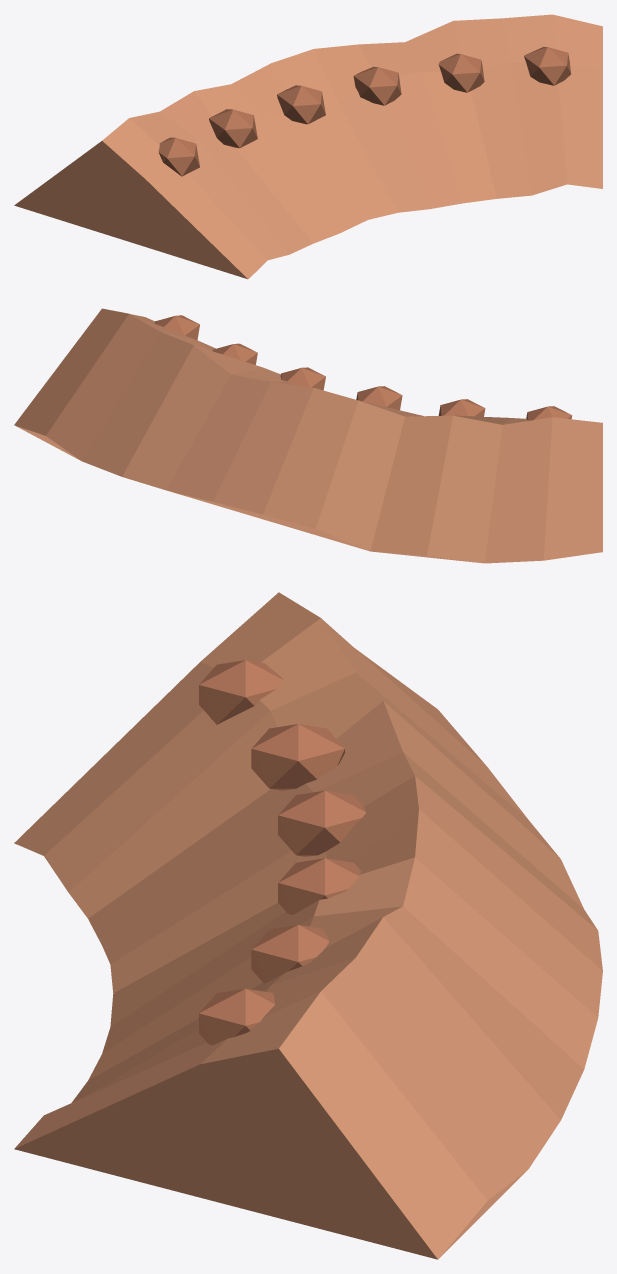
File: Crater_Rim_01.glb
3 renders of one model, top to bottom at view 1: azimuth 30°, elevation 25°; view 2: azimuth 150°, elevation 25°; view 3: azimuth 270°, elevation 25°, orthographic. The views are drawn at different scales.
Parts seen in each view (by area): view 1: Layered crater ridge, Ridge scree.002, Ridge scree.003, Ridge scree.001, Ridge scree.005, Ridge scree.004, Ridge scree; view 2: Layered crater ridge, Ridge scree.002, Ridge scree.003, Ridge scree.001, Ridge scree.005, Ridge scree.004, Ridge scree; view 3: Layered crater ridge, Ridge scree.001, Ridge scree.002, Ridge scree, Ridge scree.003, Ridge scree.004, Ridge scree.005.
Boxes of the visible parts, x1,y1,x2,y2 form: Layered crater ridge: (14, 14, 602, 279); Ridge scree.002: (277, 85, 325, 124); Ridge scree.003: (353, 66, 401, 105); Ridge scree.001: (209, 109, 257, 148); Ridge scree.005: (524, 46, 570, 85); Ridge scree.004: (438, 53, 484, 92); Ridge scree: (158, 137, 199, 176); Layered crater ridge: (14, 308, 602, 563); Ridge scree.002: (356, 386, 402, 410); Ridge scree.003: (280, 367, 325, 390); Ridge scree.001: (438, 399, 485, 416); Ridge scree.005: (155, 315, 199, 340); Ridge scree.004: (212, 343, 257, 364); Ridge scree: (526, 406, 572, 420); Layered crater ridge: (14, 592, 602, 1259); Ridge scree.001: (251, 724, 344, 790); Ridge scree.002: (278, 790, 366, 856); Ridge scree: (199, 660, 284, 724); Ridge scree.003: (278, 858, 361, 915); Ridge scree.004: (251, 925, 329, 983); Ridge scree.005: (199, 988, 275, 1044).
Bounding box in the file's own units: 5.15 × 0.911 × 2.47.
